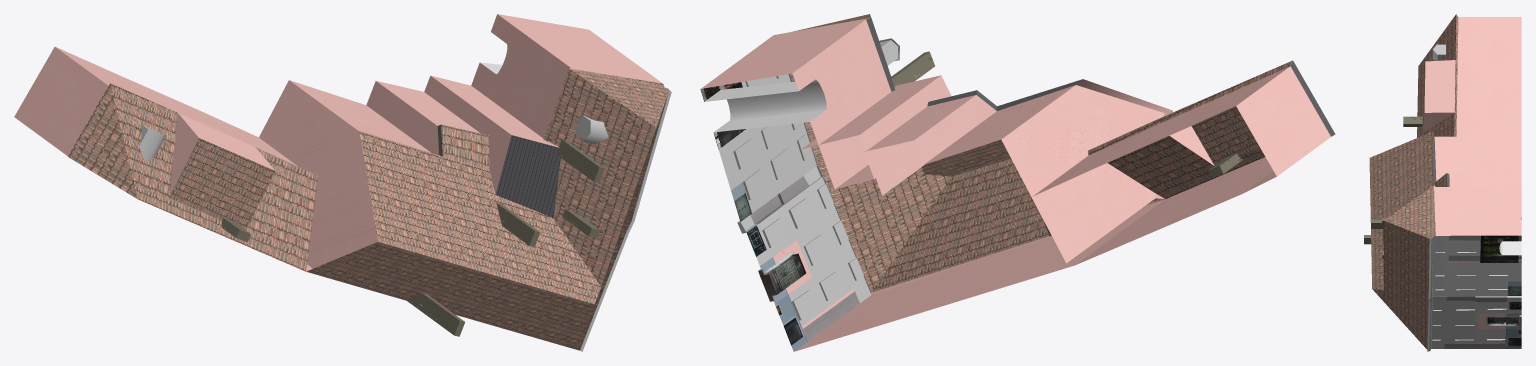
Rendered from Pikk 41_1.obj.
3 views of the same model, side by side, from view 1: azimuth 30°, elevation 25°; view 2: azimuth 150°, elevation 25°; view 3: azimuth 270°, elevation 25° (orthographic). The views are drawn at different scales.
Parts seen in each view (by area): view 1: polySurface49; view 2: polySurface49; view 3: polySurface49.
Part boxes in pixels (box(x1,y1,x2,y2)): polySurface49: box(14, 14, 671, 351); polySurface49: box(700, 14, 1335, 351); polySurface49: box(1364, 14, 1521, 351).
Bounding box in the file's own units: 47.3 × 28 × 19.03.
